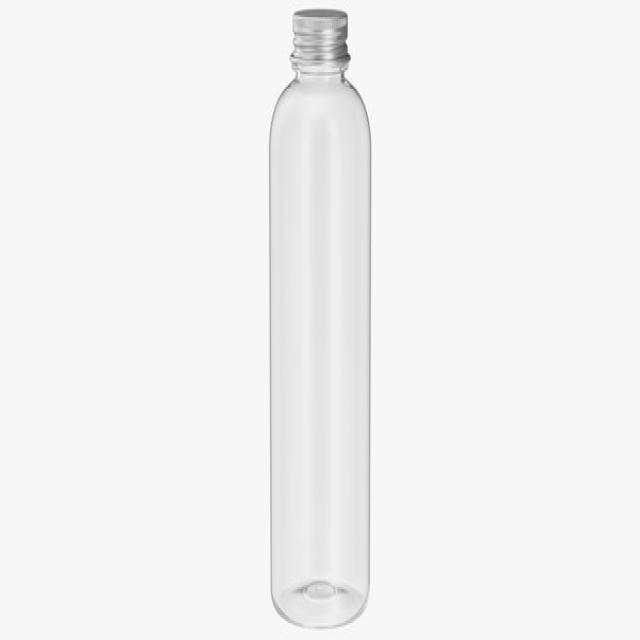bottle: (270, 9, 371, 627)
